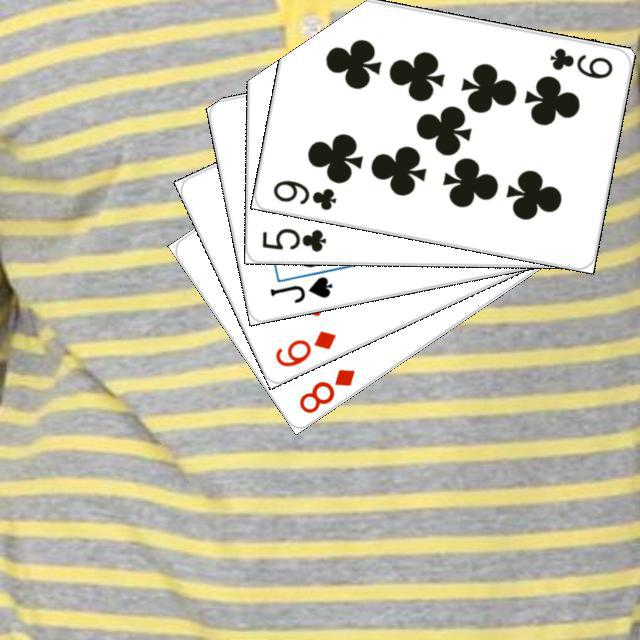5c: (257, 224, 328, 253)
6d: (270, 325, 338, 369)
8d: (293, 363, 357, 416)
9c: (545, 43, 615, 81), (268, 175, 338, 212)
Js: (264, 271, 334, 305)
